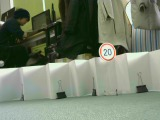speed_20: (98, 42, 116, 61)
